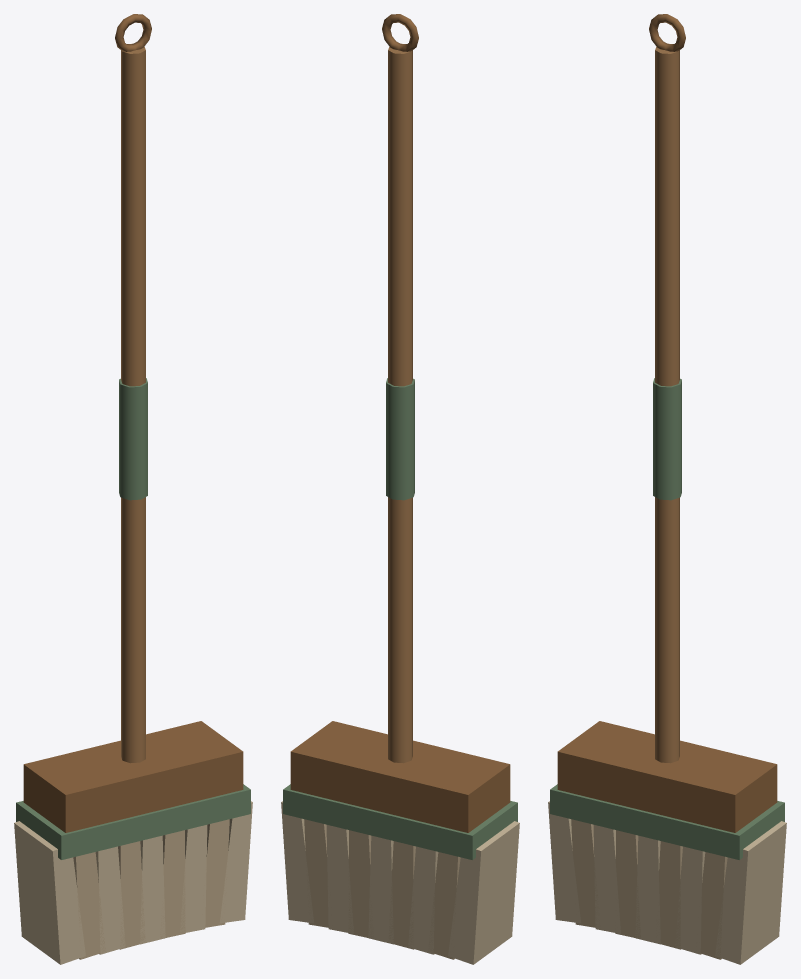
File: komachi-broom.glb
3 renders of one model, left to right at view 1: azimuth 30°, elevation 25°; view 2: azimuth 150°, elevation 25°; view 3: azimuth 330°, elevation 25°, orthographic.
Parts seen in each view (by area): view 1: Prop_Body; view 2: Prop_Body; view 3: Prop_Body.
Part boxes in pixels (x1=…): Prop_Body: x1=14, y1=14, x2=252, y2=964; Prop_Body: x1=281, y1=14, x2=519, y2=964; Prop_Body: x1=548, y1=14, x2=786, y2=964.
Bounding box in the file's own units: 0.0687 × 0.2997 × 0.027.
